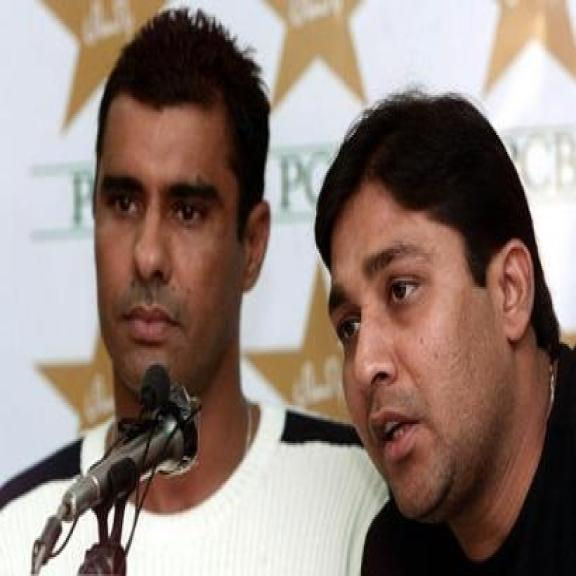face: (330, 189, 535, 529), (90, 94, 274, 406)
